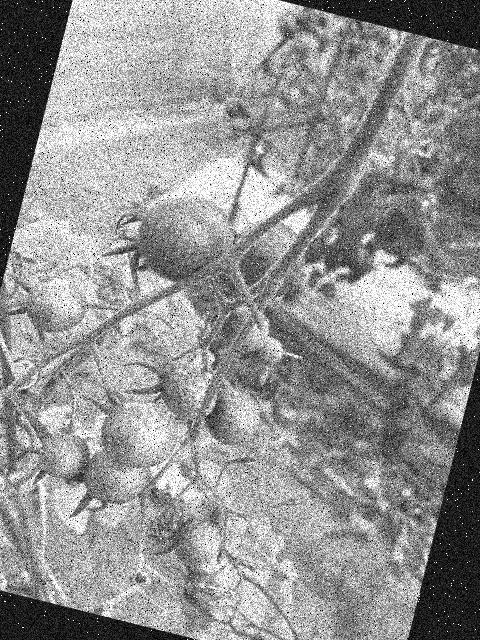l_fully_ripened: (222, 212, 313, 309)
l_green: (93, 391, 185, 477), (19, 271, 93, 341), (78, 446, 151, 511), (200, 381, 267, 451), (154, 360, 223, 426), (33, 426, 95, 484), (168, 511, 225, 571), (219, 302, 274, 356), (252, 333, 286, 369)
l_half_ripened: (128, 183, 244, 294)
